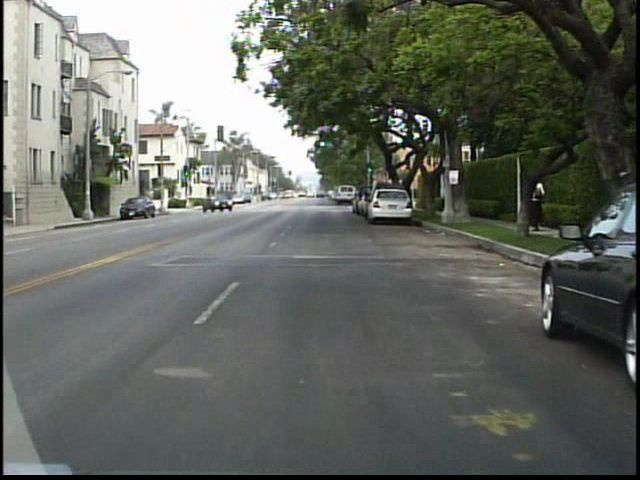person: (518, 170, 548, 238)
